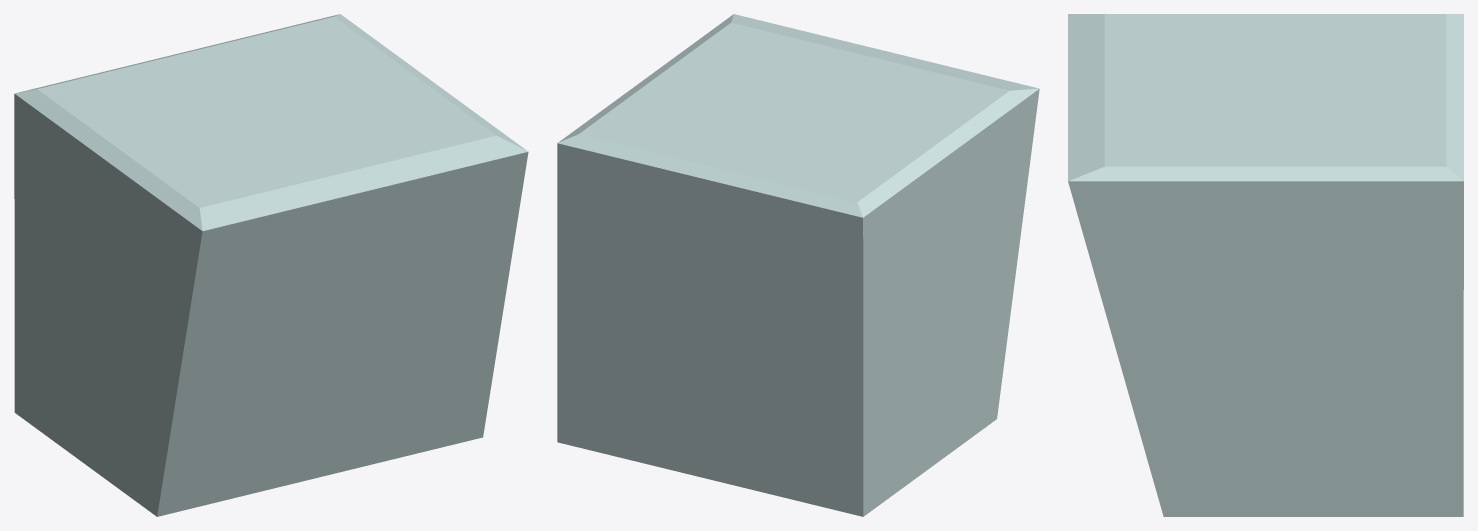
The model's file is Side_Icetile_01.fbx.
3 renders of one model, left to right at view 1: azimuth 30°, elevation 25°; view 2: azimuth 150°, elevation 25°; view 3: azimuth 270°, elevation 25°, orthographic. The views are drawn at different scales.
Parts seen in each view (by area): view 1: Side_Icetile__01; view 2: Side_Icetile__01; view 3: Side_Icetile__01.
Part boxes in pixels (<box>): Side_Icetile__01: <box>14,14,528,516</box>; Side_Icetile__01: <box>557,14,1039,516</box>; Side_Icetile__01: <box>1068,14,1463,516</box>.
Size of the model in its own units: 3 by 2.87 by 3.
